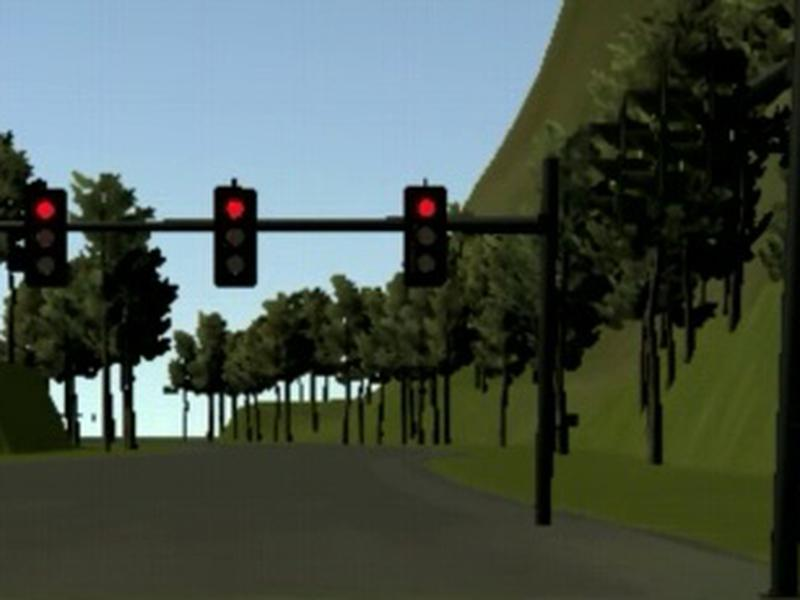Red: (402, 186, 446, 287), (213, 186, 256, 286), (26, 187, 67, 287)
